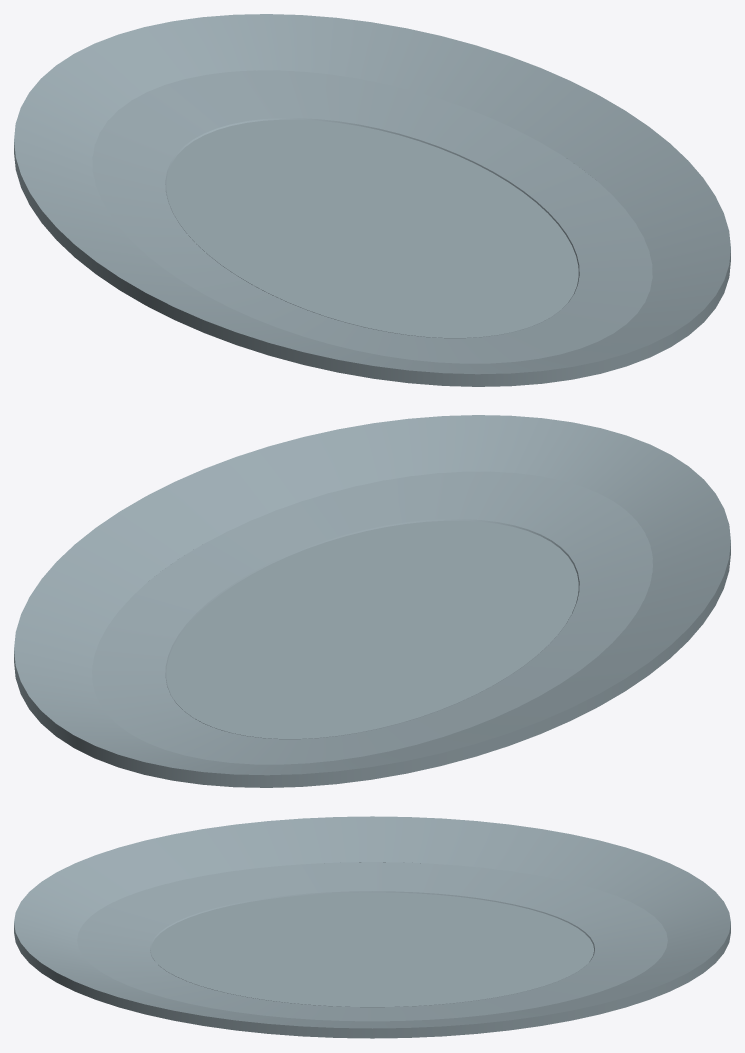
The model's file is plate_long.gltf.
The picture shows the model from 3 angles, top to bottom: view 1: azimuth 30°, elevation 25°; view 2: azimuth 150°, elevation 25°; view 3: azimuth 270°, elevation 25°; orthographic projection. The views are drawn at different scales.
Parts seen in each view (by area): view 1: Cylinder; view 2: Cylinder; view 3: Cylinder.
Part boxes in pixels (x1,y1,x2,y2): Cylinder: [14, 14, 730, 386]; Cylinder: [14, 415, 730, 787]; Cylinder: [14, 816, 730, 1038].
Bounding box in the file's own units: 2.18 × 0.1791 × 3.11.
